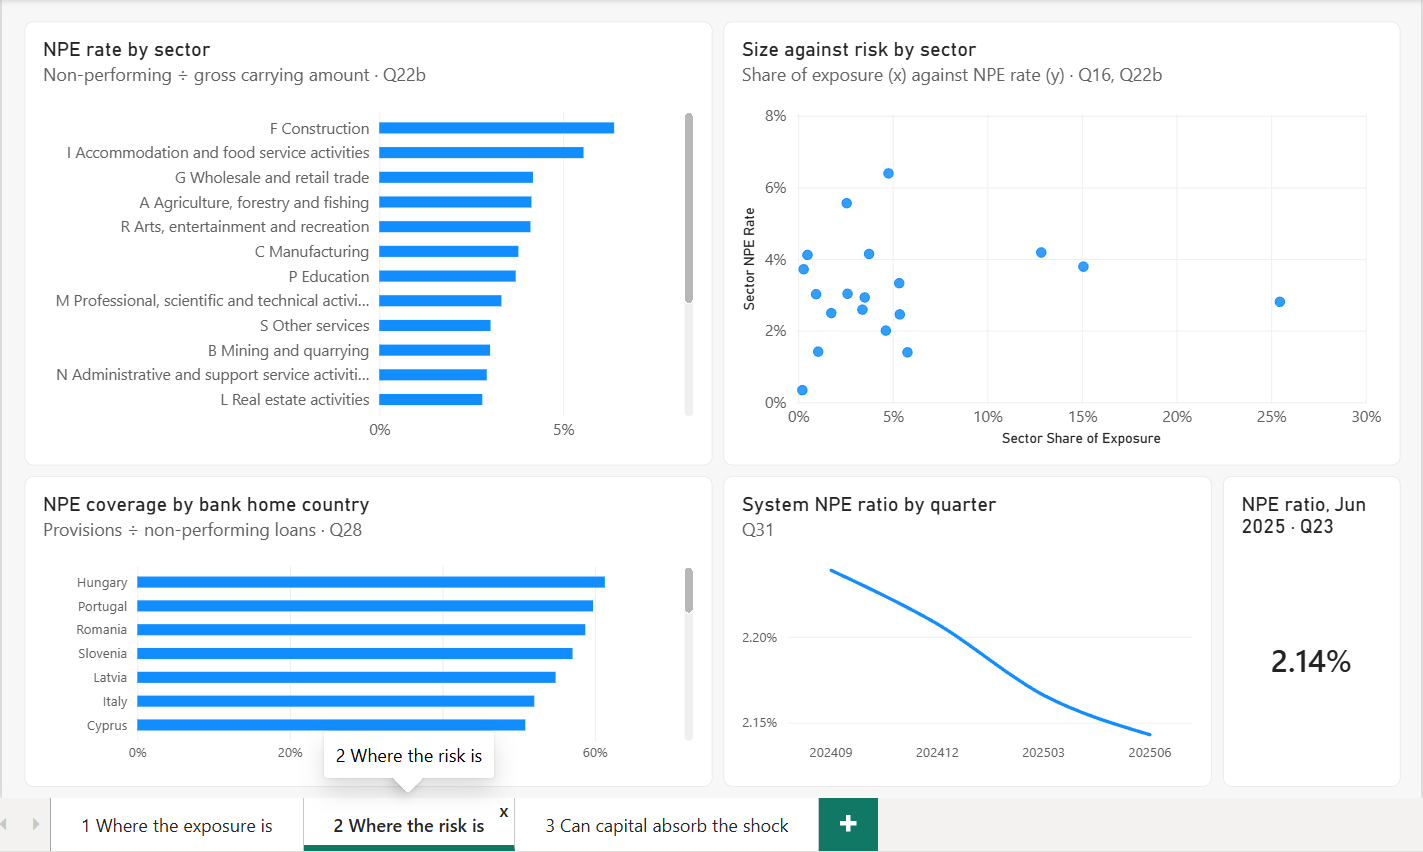

The dashboard page shown, as its layout file describes it:
{"tool":"powerbi","page":{"name":"2 Where the risk is","canvas":[1280,720],"ordinal":1},"visuals":[{"type":"clusteredBarChart","title":"NPE rate by sector","fields":{"Category":["sector.sector"],"Y":["sector.Sector NPE Rate"]},"box":[20,20,620,400],"z":1},{"type":"scatterChart","title":"Size against risk by sector","fields":{"Category":["sector.sector"],"X":["sector.Sector Share of Exposure"],"Y":["sector.Sector NPE Rate"]},"box":[650,20,610,400],"z":2},{"type":"clusteredBarChart","title":"NPE coverage by bank home country","fields":{"Category":["countries.country"],"Y":["country_asset_quality.NPE Coverage"]},"box":[20,430,620,280],"z":3},{"type":"lineChart","title":"System NPE ratio by quarter","fields":{"Category":["npe_trend.period"],"Y":["npe_trend.NPE Ratio Trend"]},"box":[650,430,440,280],"z":4},{"type":"card","title":"NPE ratio, Jun 2025 · Q23","fields":{"Values":["country_asset_quality.Country NPE Ratio"]},"box":[1100,430,160,280],"z":5}]}

Visuals, with their boxes on the page's 1280x720 design canvas (x1, y1, x2, y2). These are canvas units, not pixel positions in the 1423x852 screenshot, which may show the page scaled, cropped or inside an application window:
"NPE rate by sector" clusteredBarChart: [left=20, top=20, right=640, bottom=420]
"Size against risk by sector" scatterChart: [left=650, top=20, right=1260, bottom=420]
"NPE coverage by bank home country" clusteredBarChart: [left=20, top=430, right=640, bottom=710]
"System NPE ratio by quarter" lineChart: [left=650, top=430, right=1090, bottom=710]
"NPE ratio, Jun 2025 · Q23" card: [left=1100, top=430, right=1260, bottom=710]
